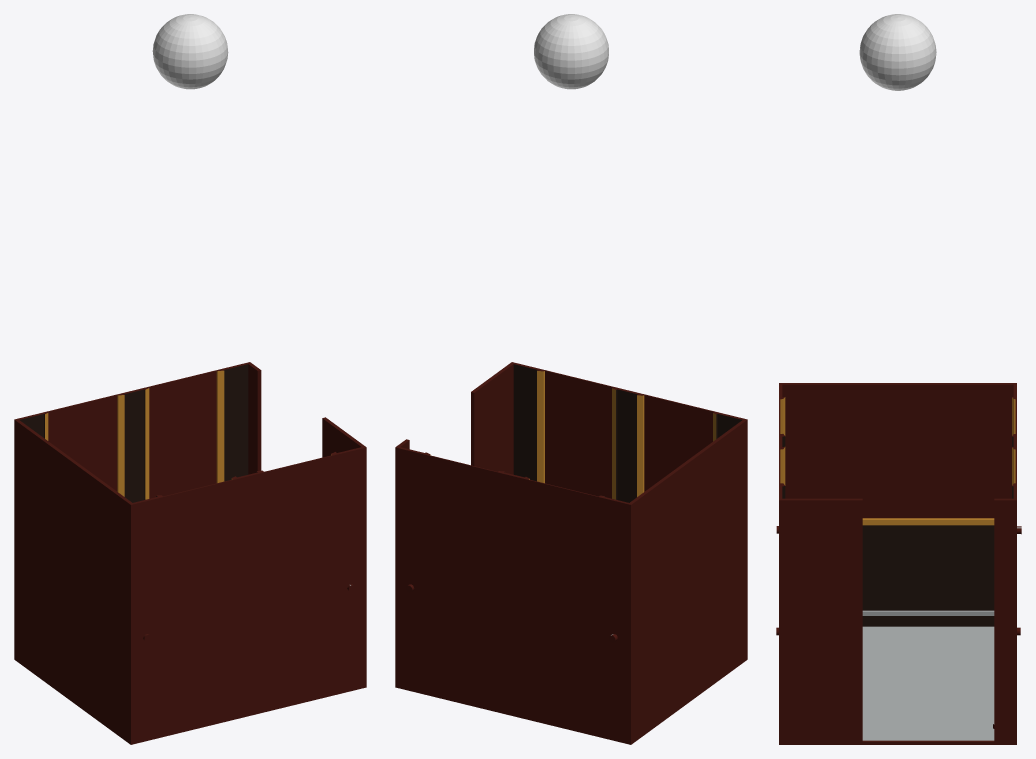
File: protoElevator.fbx
The picture shows the model from 3 angles, left to right: view 1: azimuth 30°, elevation 25°; view 2: azimuth 150°, elevation 25°; view 3: azimuth 270°, elevation 25°; orthographic projection.
Parts seen in each view (by area): view 1: Cube, Sphere; view 2: Cube, Sphere; view 3: Cube, Sphere.
Boxes of the visible parts, box(x1,y1,x2,y2) form: Cube: box(14, 362, 366, 744); Sphere: box(152, 14, 228, 89); Cube: box(395, 362, 747, 744); Sphere: box(534, 14, 608, 89); Cube: box(776, 383, 1021, 744); Sphere: box(859, 14, 936, 90).
Bounding box in the file's own units: 721 × 1915 × 637.
